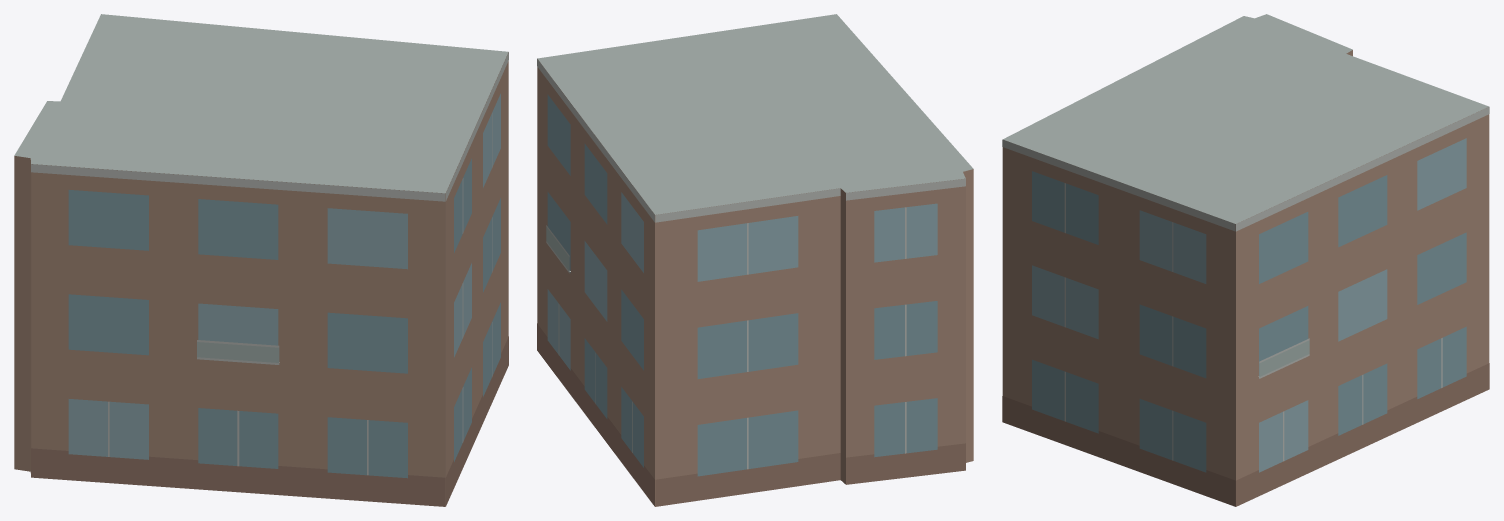
The model's file is survey-upis-32934154.glb.
3 renders of one model, left to right at view 1: azimuth 30°, elevation 25°; view 2: azimuth 150°, elevation 25°; view 3: azimuth 270°, elevation 25°, orthographic. The views are drawn at different scales.
Visible parts, largest first — view 1: survey-upis-32934154.tmp; view 2: survey-upis-32934154.tmp; view 3: survey-upis-32934154.tmp.
Part boxes in pixels (x1,y1,x2,y2): survey-upis-32934154.tmp: (14,14,508,506); survey-upis-32934154.tmp: (537,14,973,506); survey-upis-32934154.tmp: (1002,14,1489,506).
Bounding box in the file's own units: 14.59 × 9.15 × 14.28.
